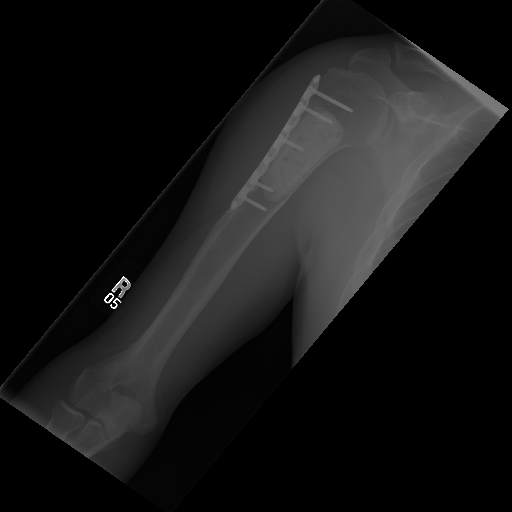implant: (231, 74, 353, 209)
